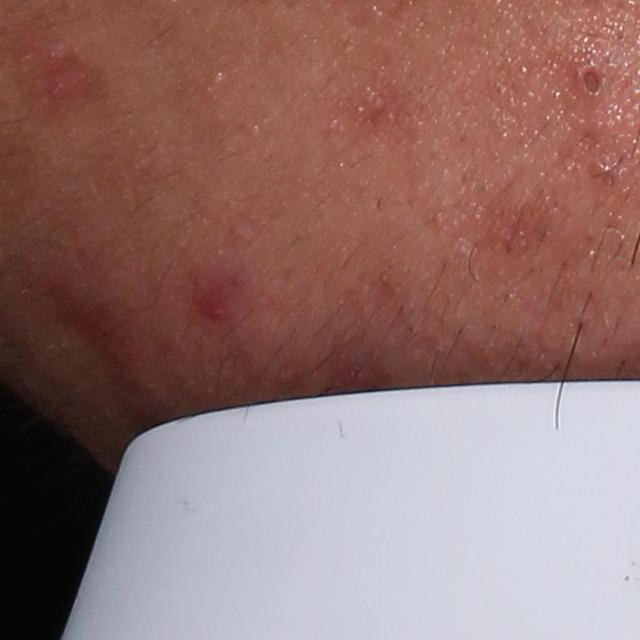comedo: (571, 53, 612, 106)
